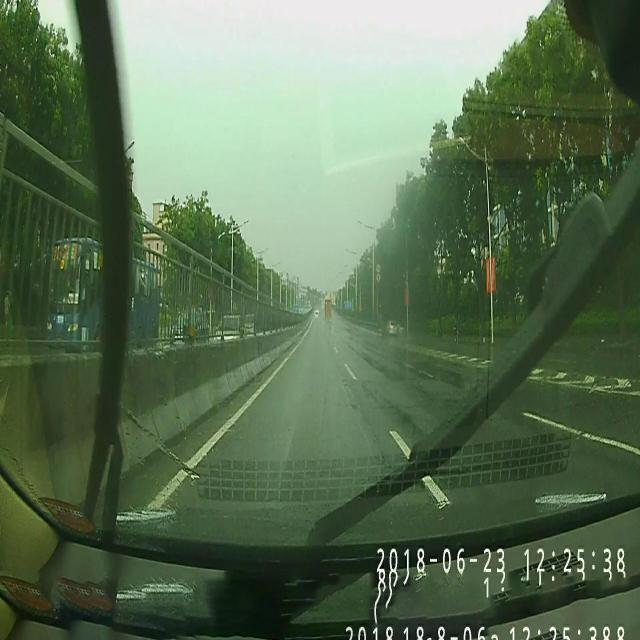car: (170, 312, 210, 340), (388, 322, 398, 338), (315, 309, 319, 318)
